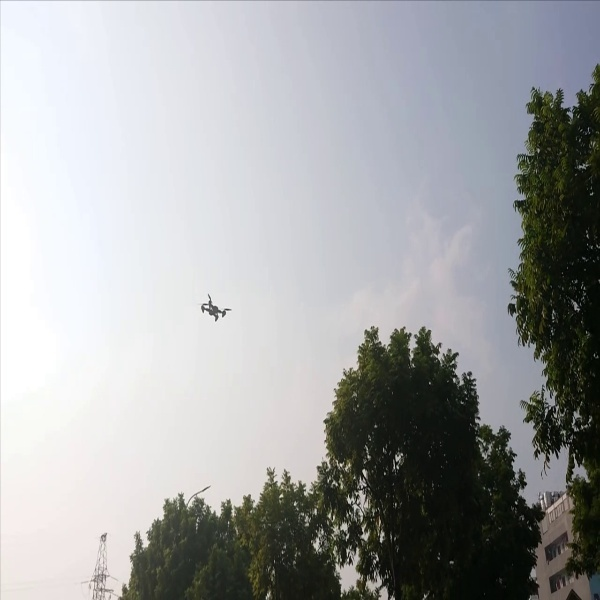drone: (200, 293, 233, 324)
